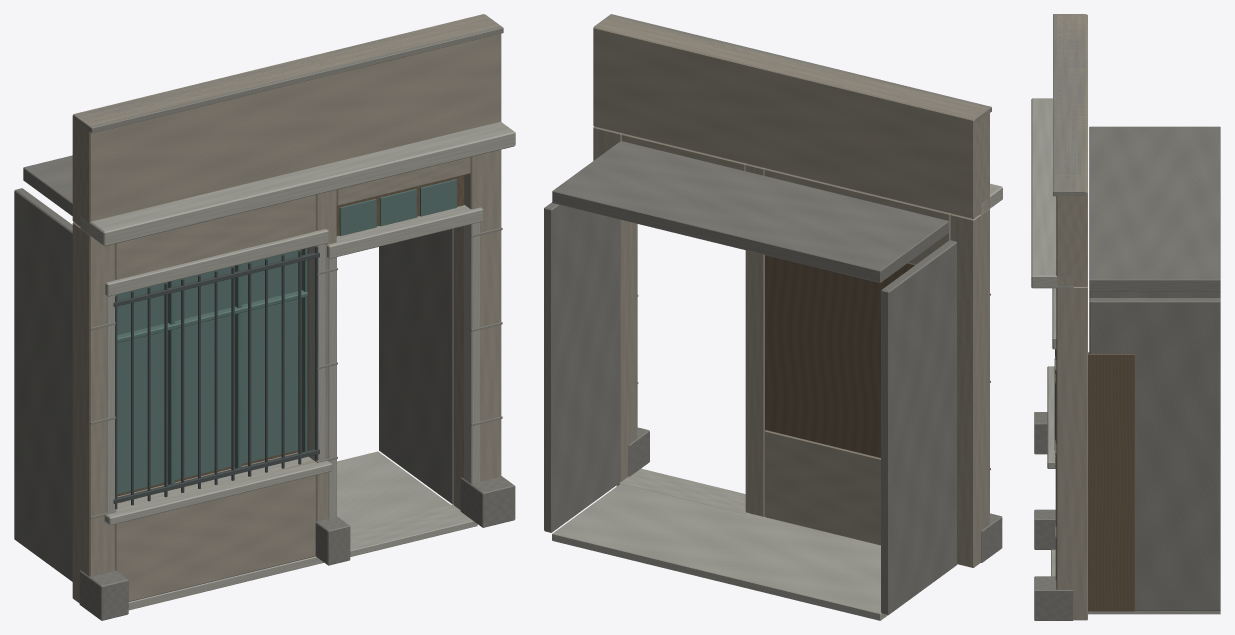
The model's file is F04_BarredStore_visual.glb.
The picture shows the model from 3 angles, left to right: view 1: azimuth 30°, elevation 25°; view 2: azimuth 150°, elevation 25°; view 3: azimuth 270°, elevation 25°; orthographic projection. The views are drawn at different scales.
Parts seen in each view (by area): view 1: F04_BarredStore__VIS; view 2: F04_BarredStore__VIS; view 3: F04_BarredStore__VIS.
Boxes of the visible parts, x1,y1,x2,y2 form: F04_BarredStore__VIS: (14, 14, 515, 620); F04_BarredStore__VIS: (544, 14, 1002, 620); F04_BarredStore__VIS: (1031, 14, 1220, 620).
Size of the model in its own units: 16.08 by 18.3 by 7.21.
Materials: 1 (1 with a texture image).
